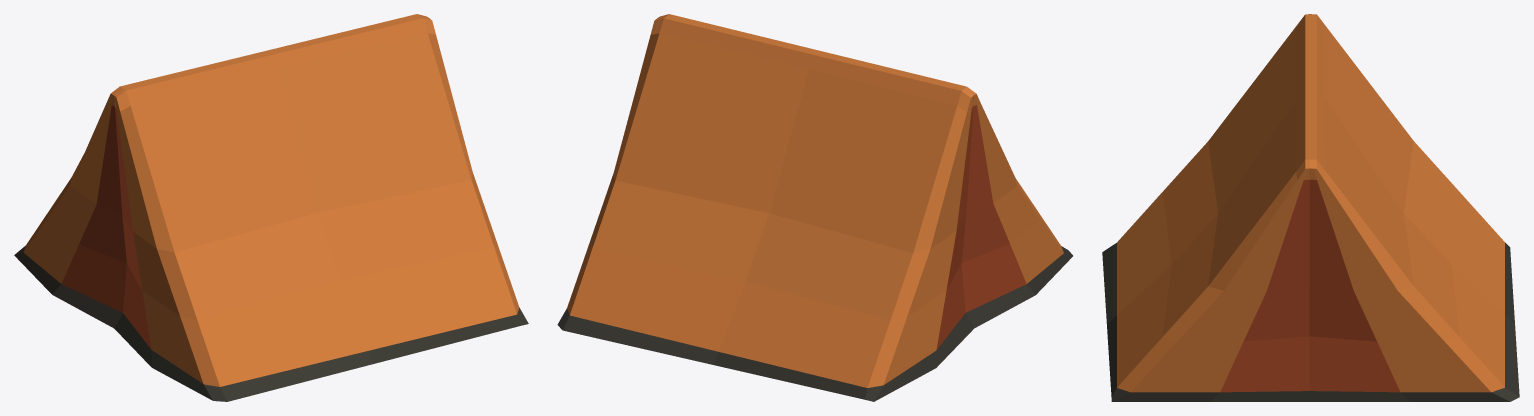
Rendered from tent.fbx.
The picture shows the model from 3 angles, left to right: view 1: azimuth 30°, elevation 25°; view 2: azimuth 150°, elevation 25°; view 3: azimuth 270°, elevation 25°; orthographic projection.
Visible parts, largest first — view 1: Cube.002; view 2: Cube.002; view 3: Cube.002.
Part boxes in pixels (x1,y1,x2,y2): Cube.002: [14, 14, 528, 401]; Cube.002: [557, 14, 1072, 401]; Cube.002: [1102, 14, 1519, 401].
Size of the model in its own units: 472 by 326 by 519.
